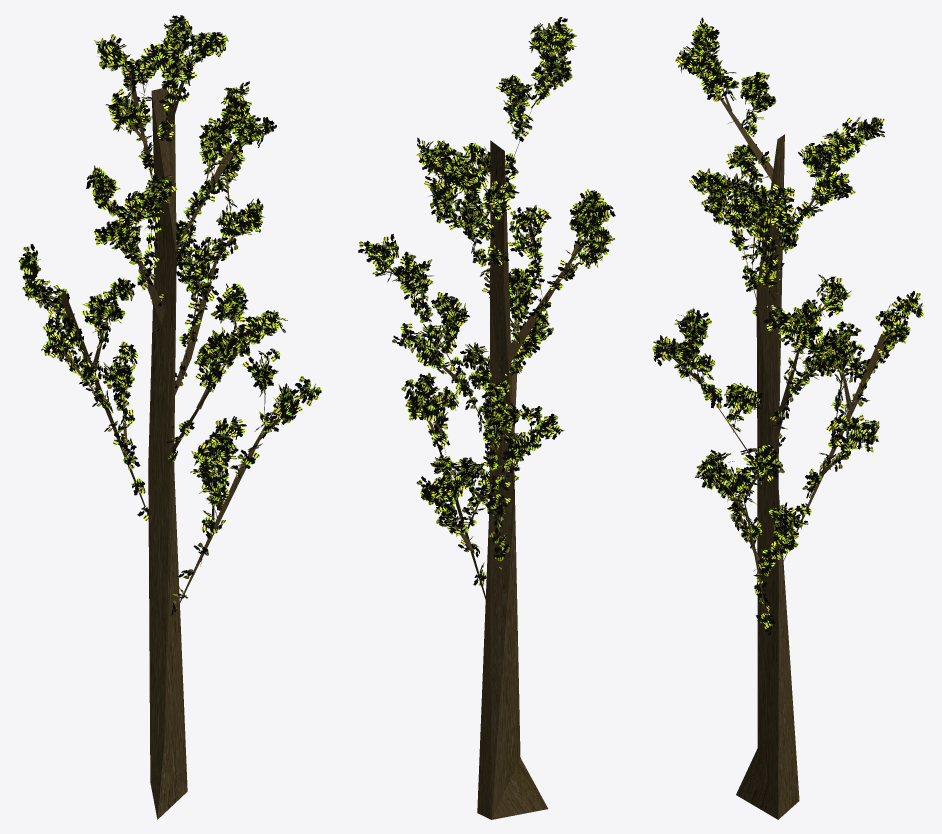
Rendered from baldcypress_v02_LOD2.fbx.
3 renders of one model, left to right at view 1: azimuth 30°, elevation 25°; view 2: azimuth 150°, elevation 25°; view 3: azimuth 270°, elevation 25°, orthographic. The views are drawn at different scales.
Parts seen in each view (by area): view 1: baldcypress_v02_LOD2; view 2: baldcypress_v02_LOD2; view 3: baldcypress_v02_LOD2.
Boxes of the visible parts, left/top/right/bottom form: baldcypress_v02_LOD2: left=19, top=15, right=321, bottom=819; baldcypress_v02_LOD2: left=358, top=17, right=615, bottom=819; baldcypress_v02_LOD2: left=652, top=17, right=923, bottom=819.
Bounding box in the file's own units: 868 × 974 × 2987.
2 materials, 2 textured.
